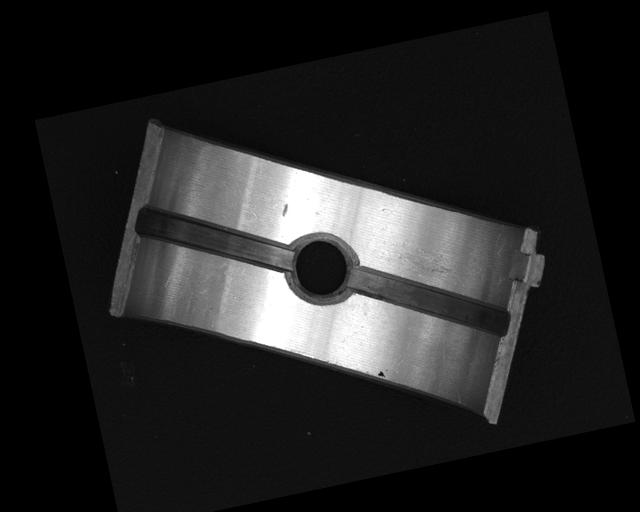blot: (376, 369, 387, 380)
bruise: (278, 202, 290, 217)
gap: (132, 177, 295, 299), (348, 238, 510, 359)
hole: (282, 224, 361, 309)
scratch: (392, 229, 467, 302)
